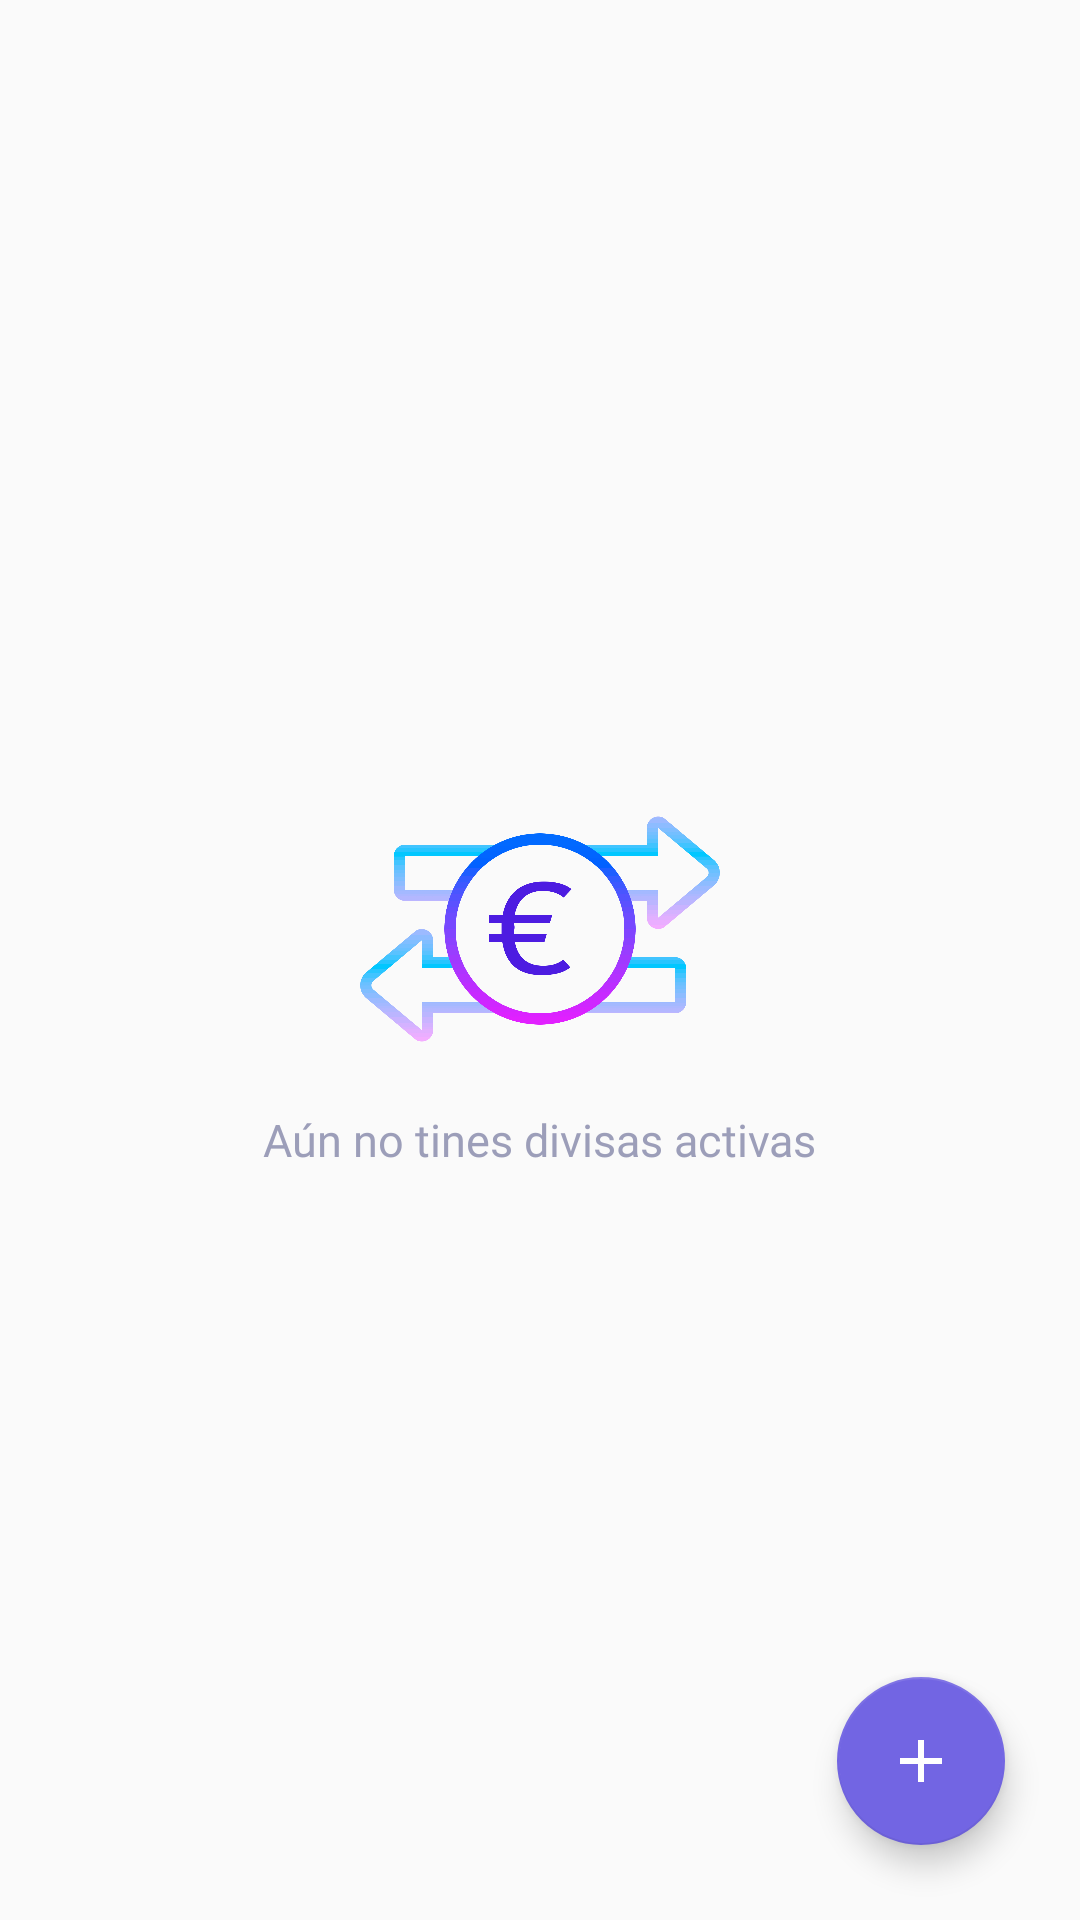

Locate icon controls on the screen. Image size 1080px×1920px, boxes as (x1, y1, x2, y2).
add: (837, 1677, 1005, 1845)
empty coins: (360, 816, 720, 1042)
